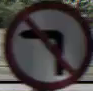Don't turn left: (16, 6, 76, 78)
